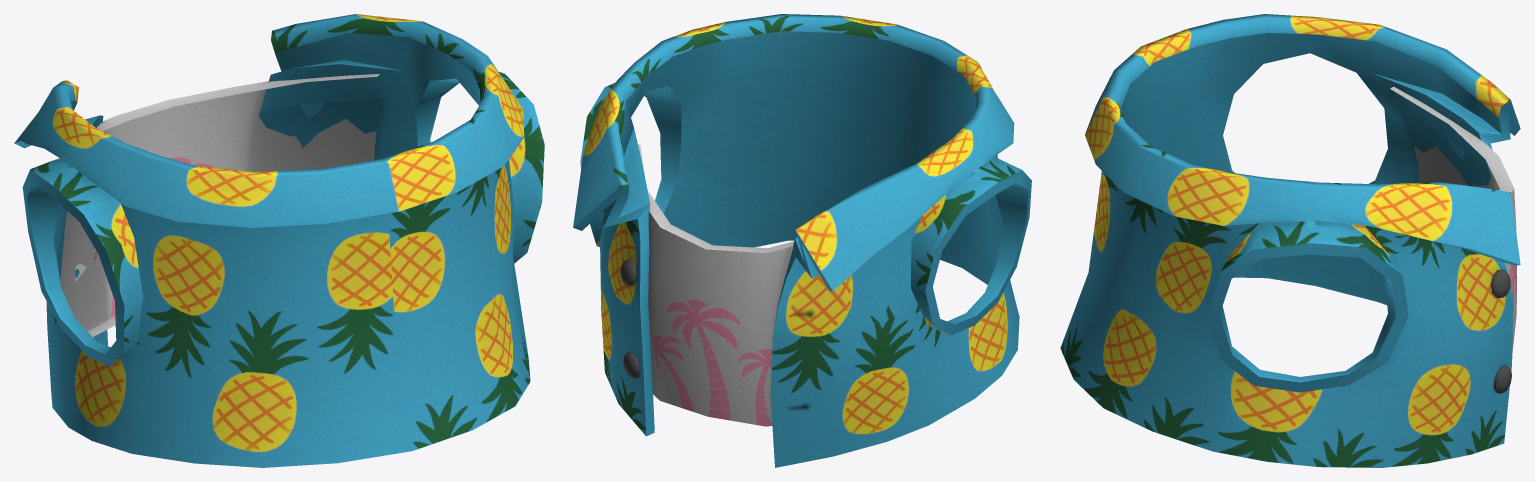
Rendered from IG_Armor_Island_Pineapple.fbx.
The picture shows the model from 3 angles, left to right: view 1: azimuth 30°, elevation 25°; view 2: azimuth 150°, elevation 25°; view 3: azimuth 270°, elevation 25°; orthographic projection. The views are drawn at different scales.
Parts seen in each view (by area): view 1: Clothes_Armor_Island_Pineapple; view 2: Clothes_Armor_Island_Pineapple; view 3: Clothes_Armor_Island_Pineapple.
Boxes of the visible parts, x1=… form: Clothes_Armor_Island_Pineapple: x1=14, y1=14, x2=544, y2=467; Clothes_Armor_Island_Pineapple: x1=573, y1=14, x2=1031, y2=467; Clothes_Armor_Island_Pineapple: x1=1060, y1=14, x2=1520, y2=467.
Bounding box in the file's own units: 0.6389 × 0.4527 × 0.604.
